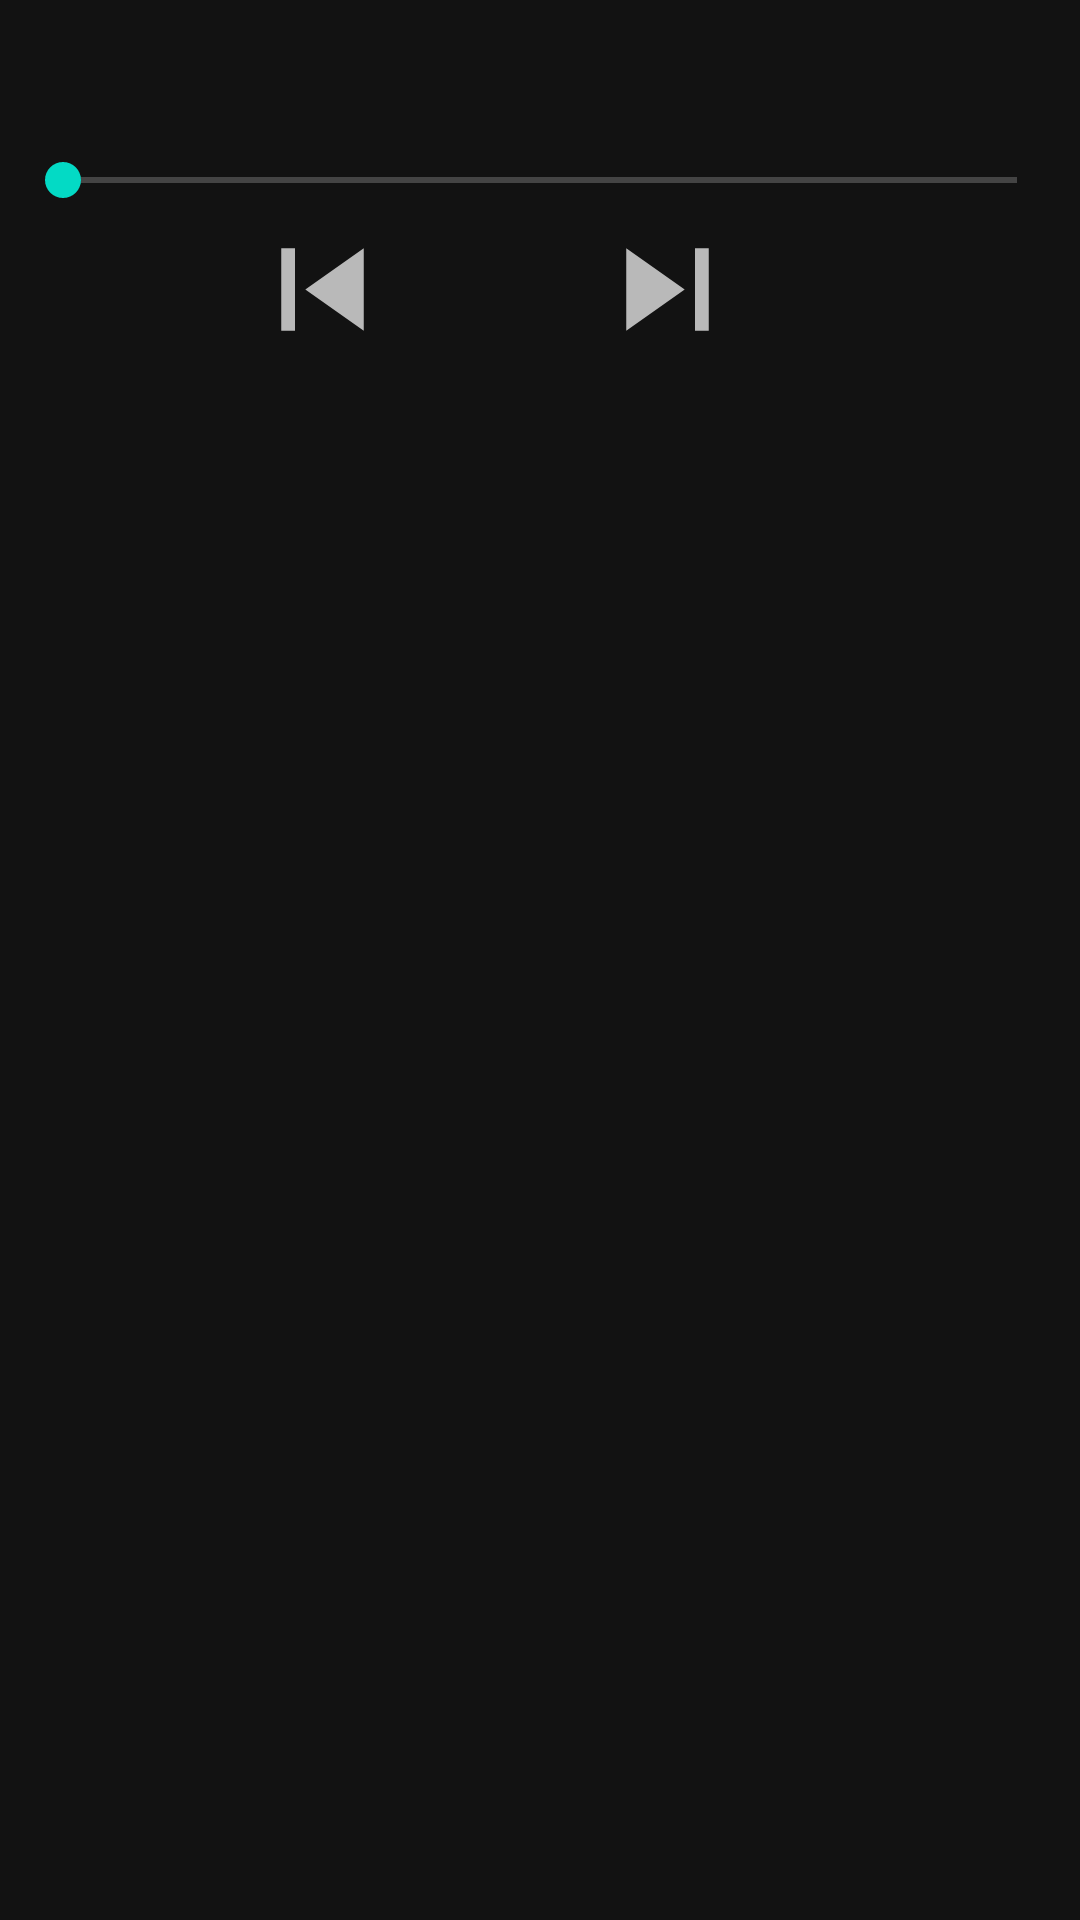

Where to tap for icons on this 1080×1920 app screen, as point (x, y):
skip next: point (667, 289)
skip previous: point (322, 289)
